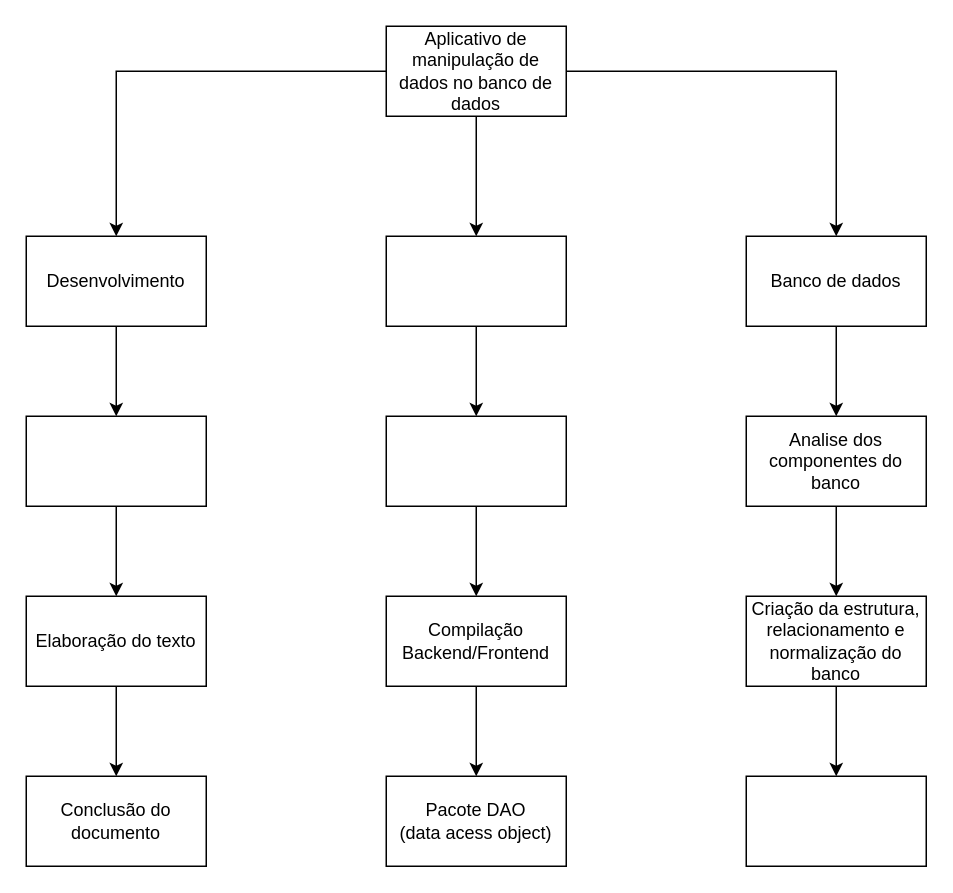
This 953x893 diagram has some shape labels left out. Here are the shapes that lost their labels. From the top down, the box of each, then its label:
(385, 235, 566, 326): Aplicativo
(25, 415, 206, 506): Pesquisa dos dados
(385, 415, 566, 506): Definição da linguagem de programção
(745, 775, 926, 866): Preenchimento das tabelas do banco de dados
